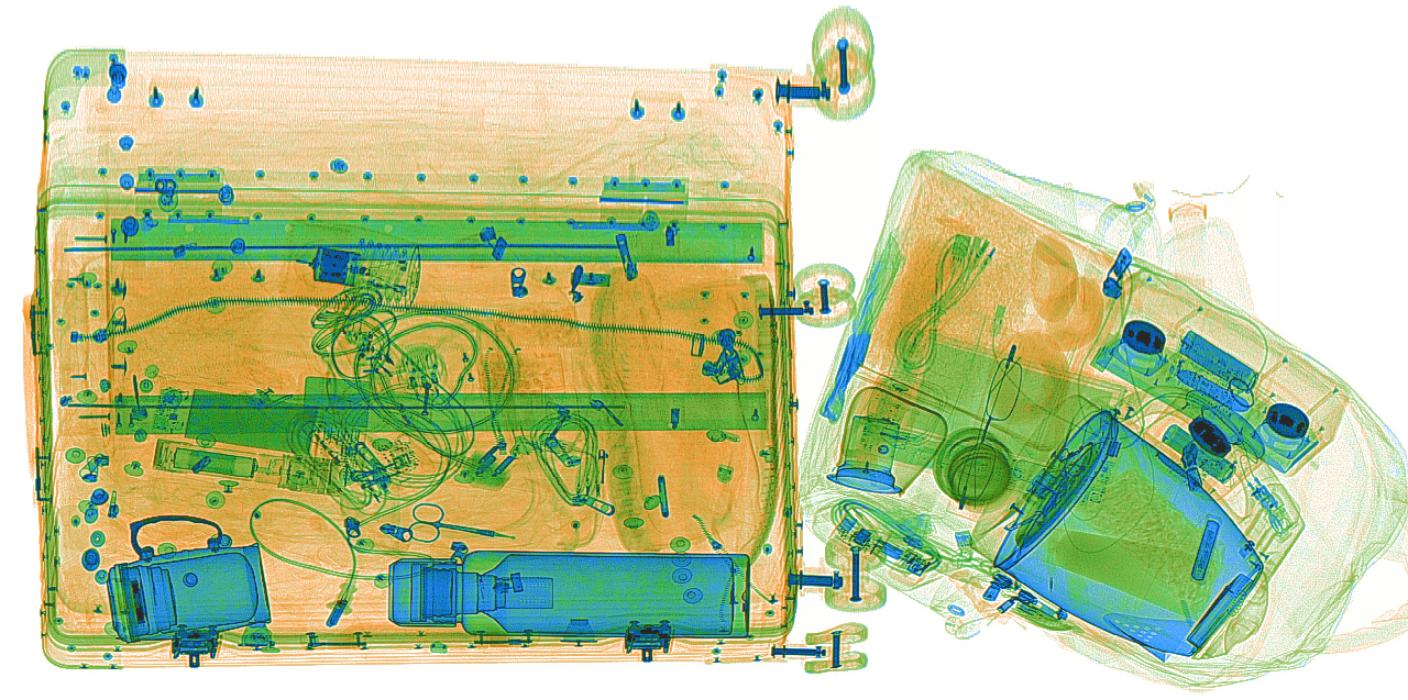battery: (1179, 330, 1260, 393), (1163, 420, 1237, 484), (169, 447, 258, 480)
scissors: (406, 501, 518, 542)
